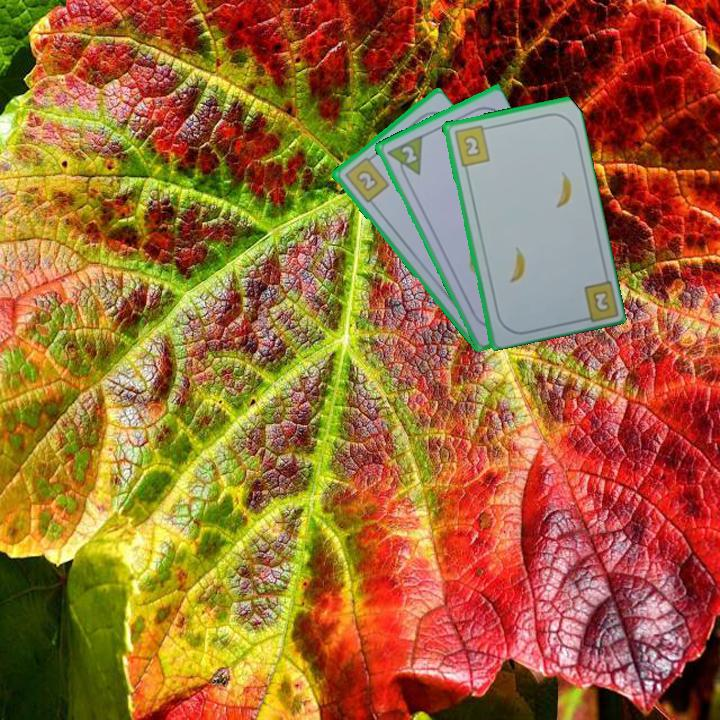2b: (340, 151, 392, 205), (450, 122, 492, 169), (589, 286, 613, 315)
2p: (397, 142, 419, 166)
